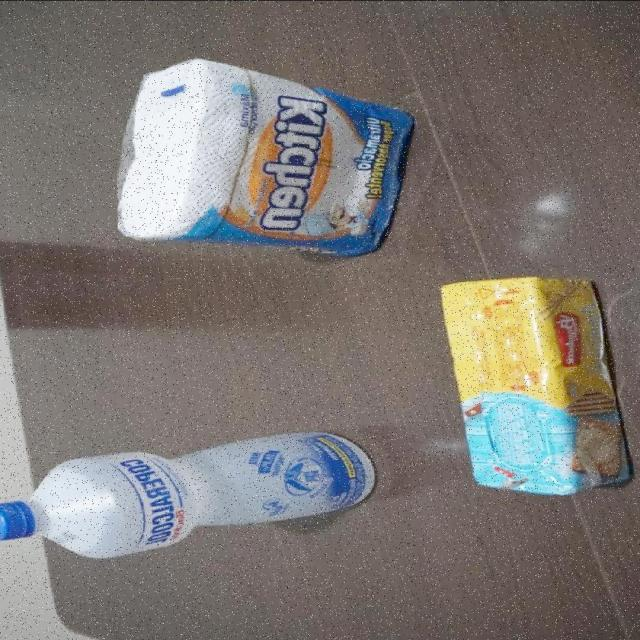AlcoholBottle: (0, 431, 377, 558)
Cracker: (440, 274, 634, 497)
Napkin: (116, 59, 420, 259)
